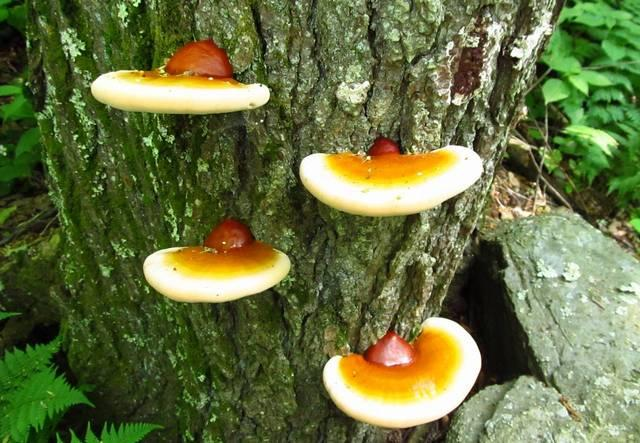Non-edible Mushroom: (321, 315, 482, 429), (87, 38, 279, 123), (297, 137, 484, 217), (141, 217, 291, 303)
